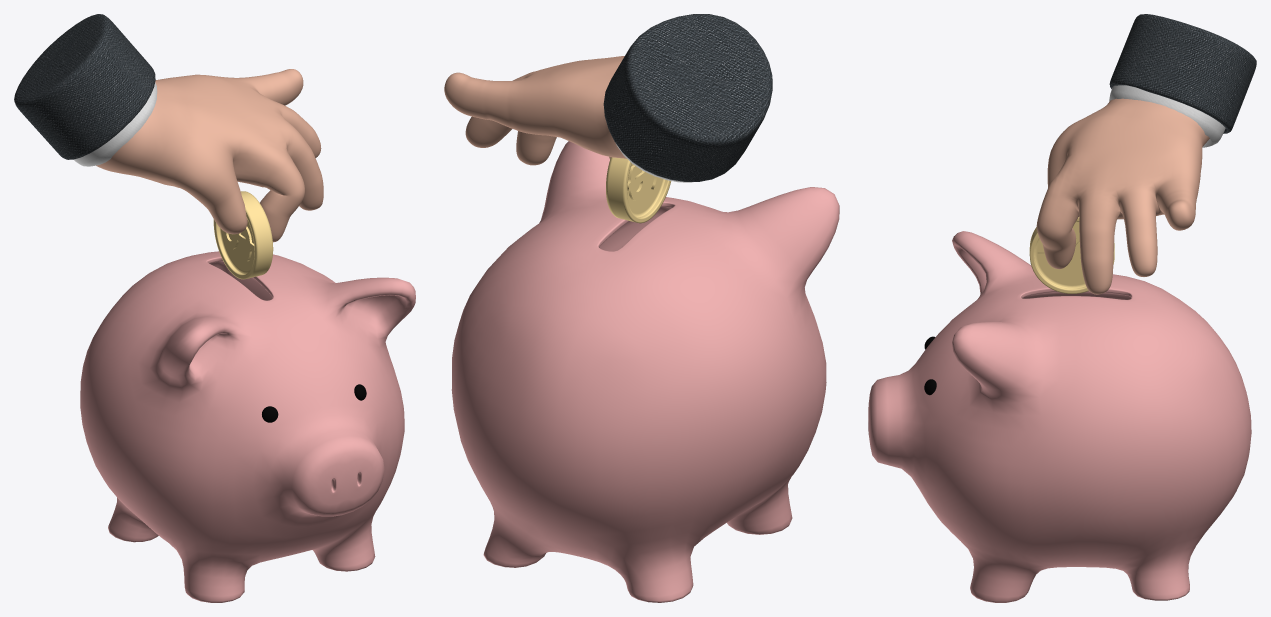
Rendered from piggy.glb.
3 renders of one model, left to right at view 1: azimuth 30°, elevation 25°; view 2: azimuth 150°, elevation 25°; view 3: azimuth 270°, elevation 25°, orthographic. The views are drawn at different scales.
Parts seen in each view (by area): view 1: Object_2, Object_3, Object_4; view 2: Object_2, Object_3, Object_4; view 3: Object_2, Object_3, Object_4.
Boxes of the visible parts, x1,y1,x2,y2 form: Object_2: [80, 251, 415, 602]; Object_3: [14, 14, 323, 242]; Object_4: [213, 191, 273, 279]; Object_2: [451, 141, 839, 602]; Object_3: [444, 14, 772, 182]; Object_4: [606, 157, 671, 223]; Object_2: [868, 231, 1251, 602]; Object_3: [1036, 14, 1256, 294]; Object_4: [1029, 217, 1114, 293].
Size of the model in its own units: 2.54 by 4.13 by 2.91.
Materials: 3 (3 with a texture image).
